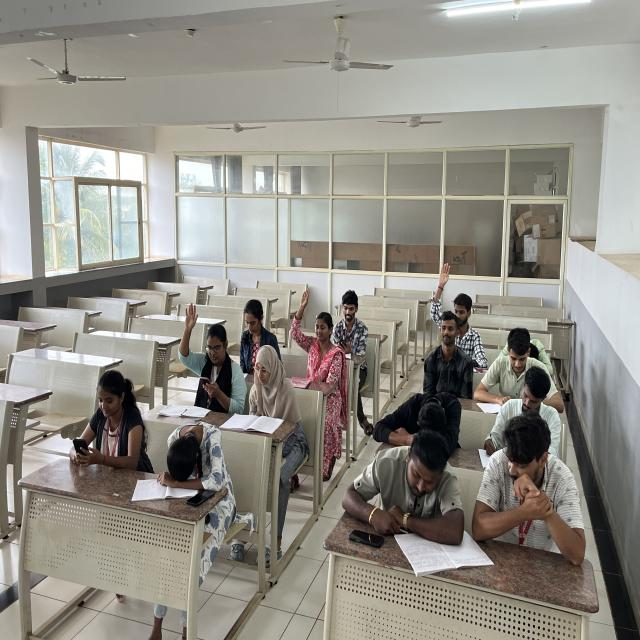Hand Rising: (169, 297, 241, 379), (233, 348, 292, 434)
Sleeping: (161, 419, 233, 492)
Using Phone: (69, 372, 147, 472)
